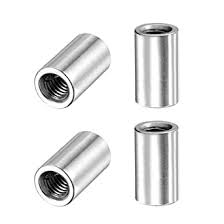Thread: (35, 70, 77, 106), (33, 168, 76, 203), (134, 18, 178, 43), (135, 119, 175, 140)
